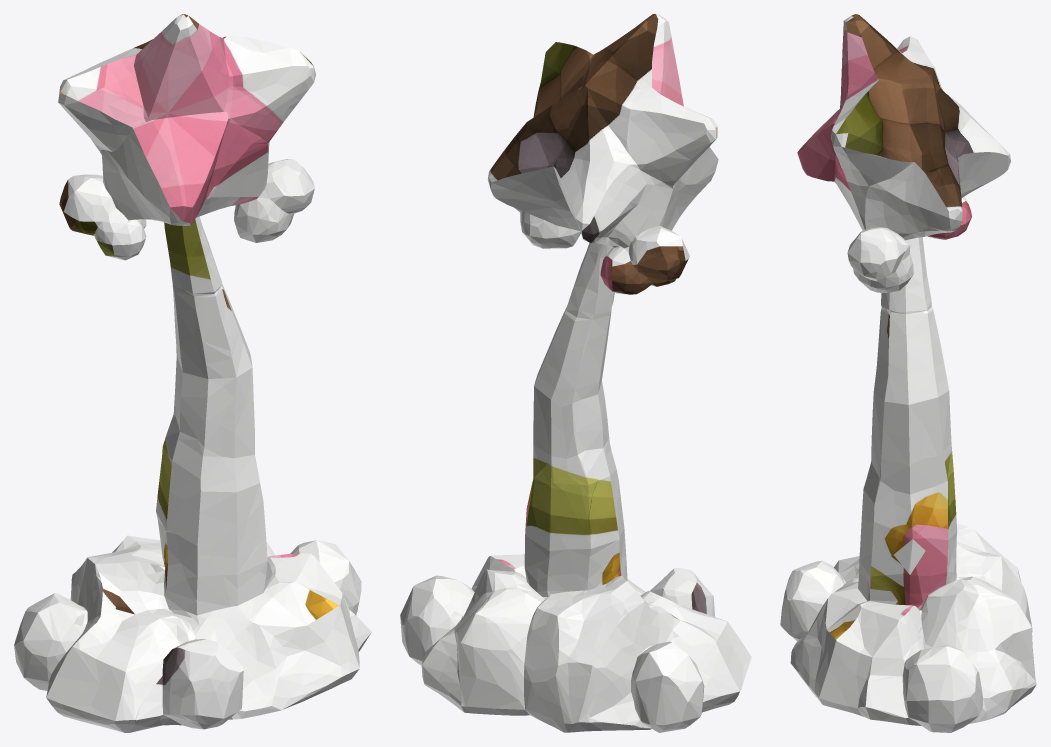
File: StarRoot_seedling.obj
3 renders of one model, left to right at view 1: azimuth 30°, elevation 25°; view 2: azimuth 150°, elevation 25°; view 3: azimuth 270°, elevation 25°, orthographic. The views are drawn at different scales.
Parts seen in each view (by area): view 1: StarRoot_seedling; view 2: StarRoot_seedling; view 3: StarRoot_seedling.
Part boxes in pixels (x1,y1,x2,y2): StarRoot_seedling: [14, 14, 371, 732]; StarRoot_seedling: [400, 14, 751, 732]; StarRoot_seedling: [780, 14, 1036, 732].
Bounding box in the file's own units: 0.5981 × 1.2 × 0.4404.
